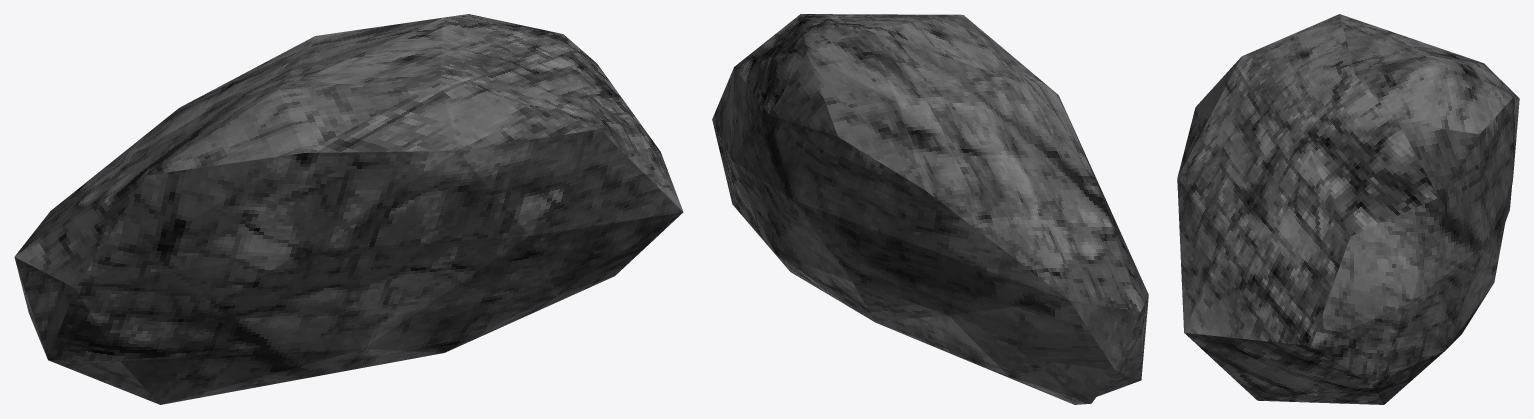
The model's file is rock.glb.
3 renders of one model, left to right at view 1: azimuth 30°, elevation 25°; view 2: azimuth 150°, elevation 25°; view 3: azimuth 270°, elevation 25°, orthographic. The views are drawn at different scales.
Parts seen in each view (by area): view 1: Icosphere.013; view 2: Icosphere.013; view 3: Icosphere.013.
Boxes of the visible parts, bbox=[...] form: Icosphere.013: bbox=[14, 14, 683, 404]; Icosphere.013: bbox=[712, 14, 1148, 404]; Icosphere.013: bbox=[1177, 14, 1519, 404].
Size of the model in its own units: 8.71 by 4.92 by 4.4.
Materials: 1 (1 with a texture image).
